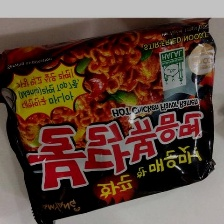snack: (0, 17, 224, 224)
